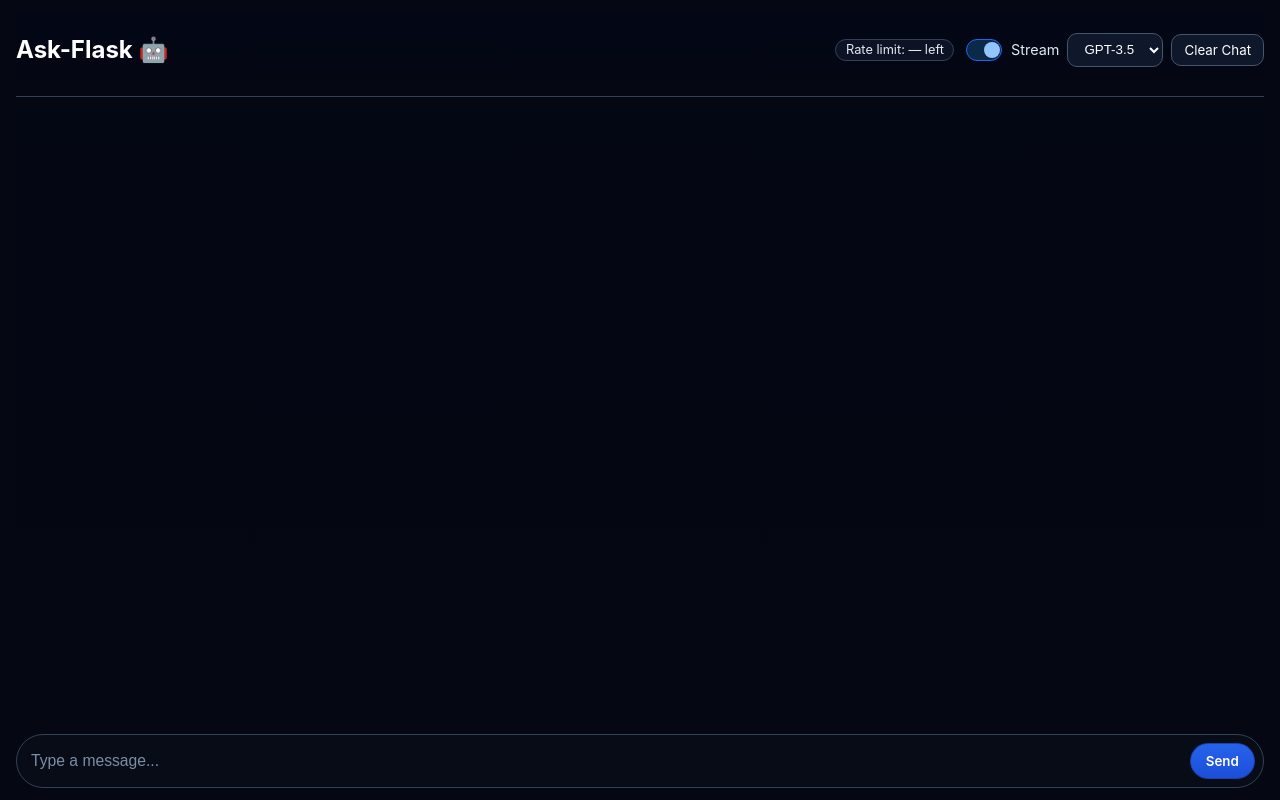
Scenario: renders and sends a message via non-stream path
Click the checkbox labelled "Stream" at (984, 50), box x1=966 y1=39 x2=1002 y2=61
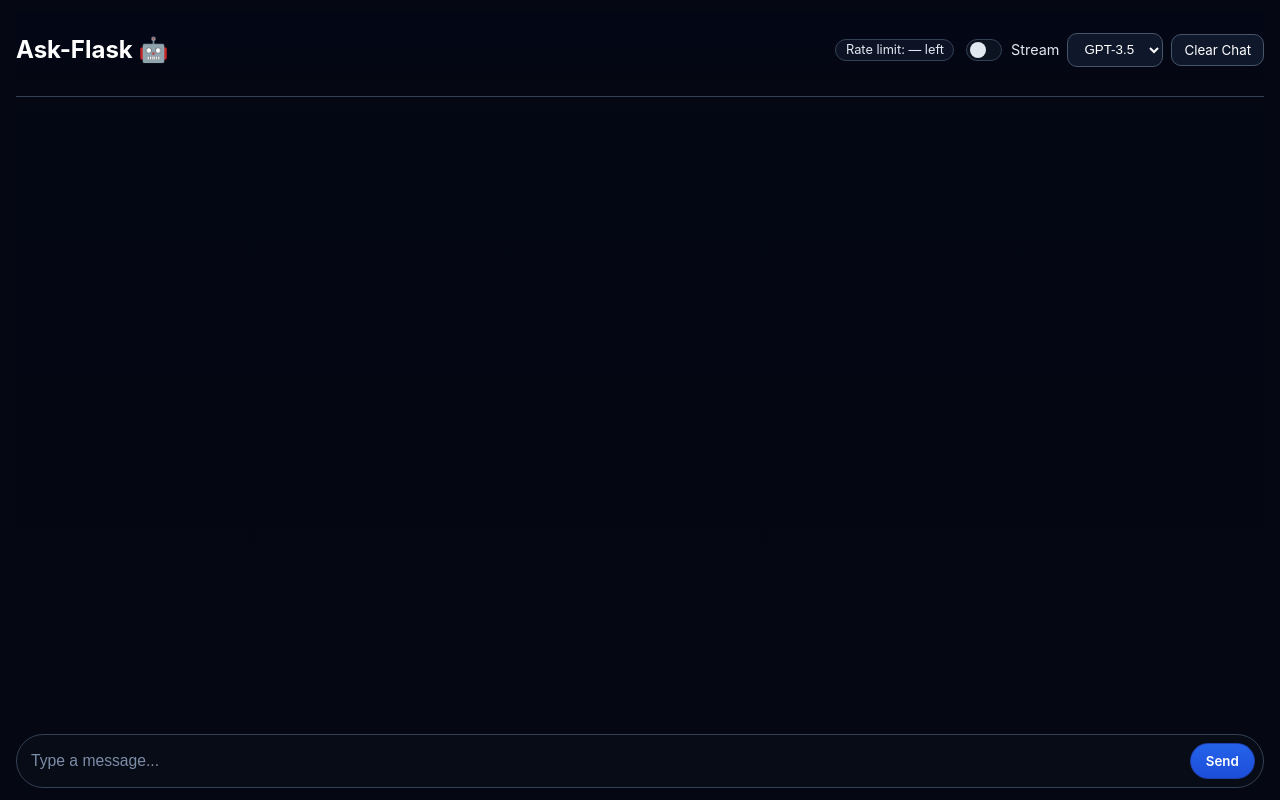
Type "hello" into the field with placeholder "Type a message..." at (605, 761), box x1=29 y1=751 x2=1182 y2=771
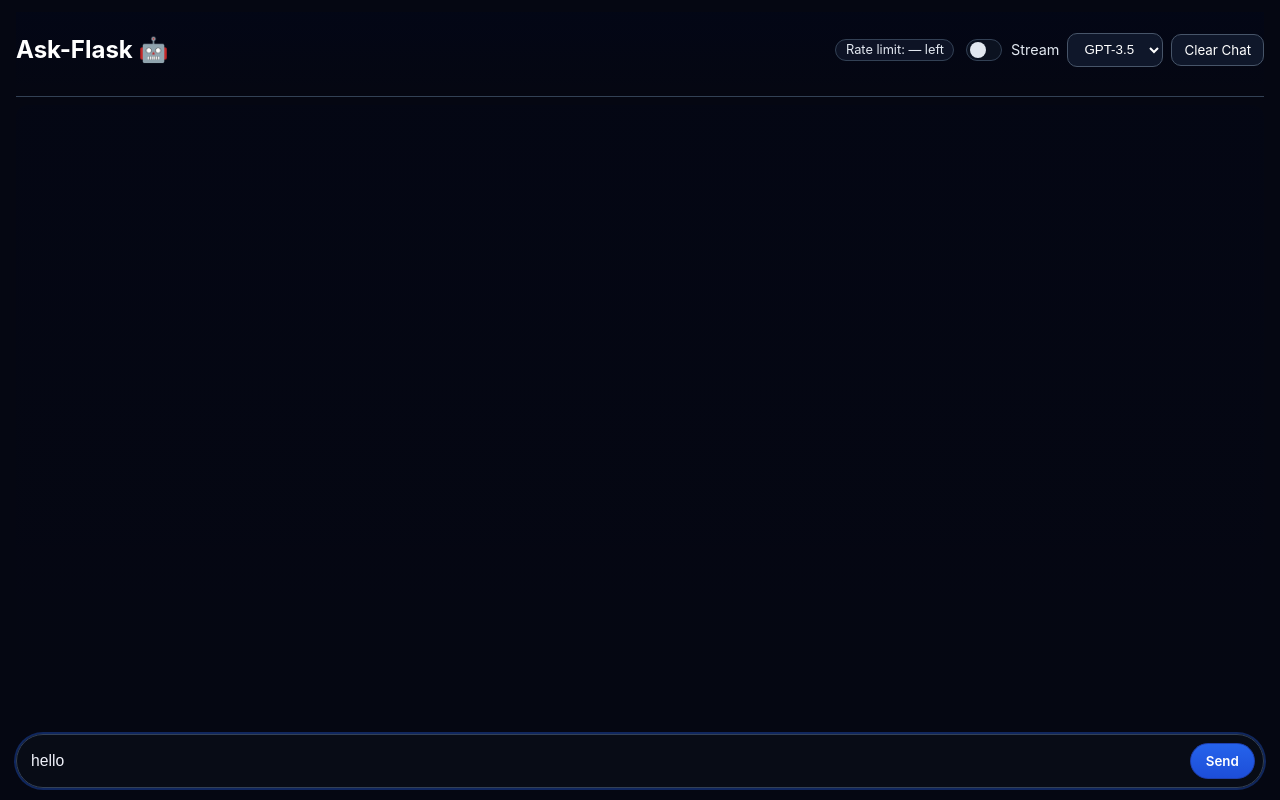
Click the button "Send" at (1222, 761), box x1=1190 y1=743 x2=1255 y2=779
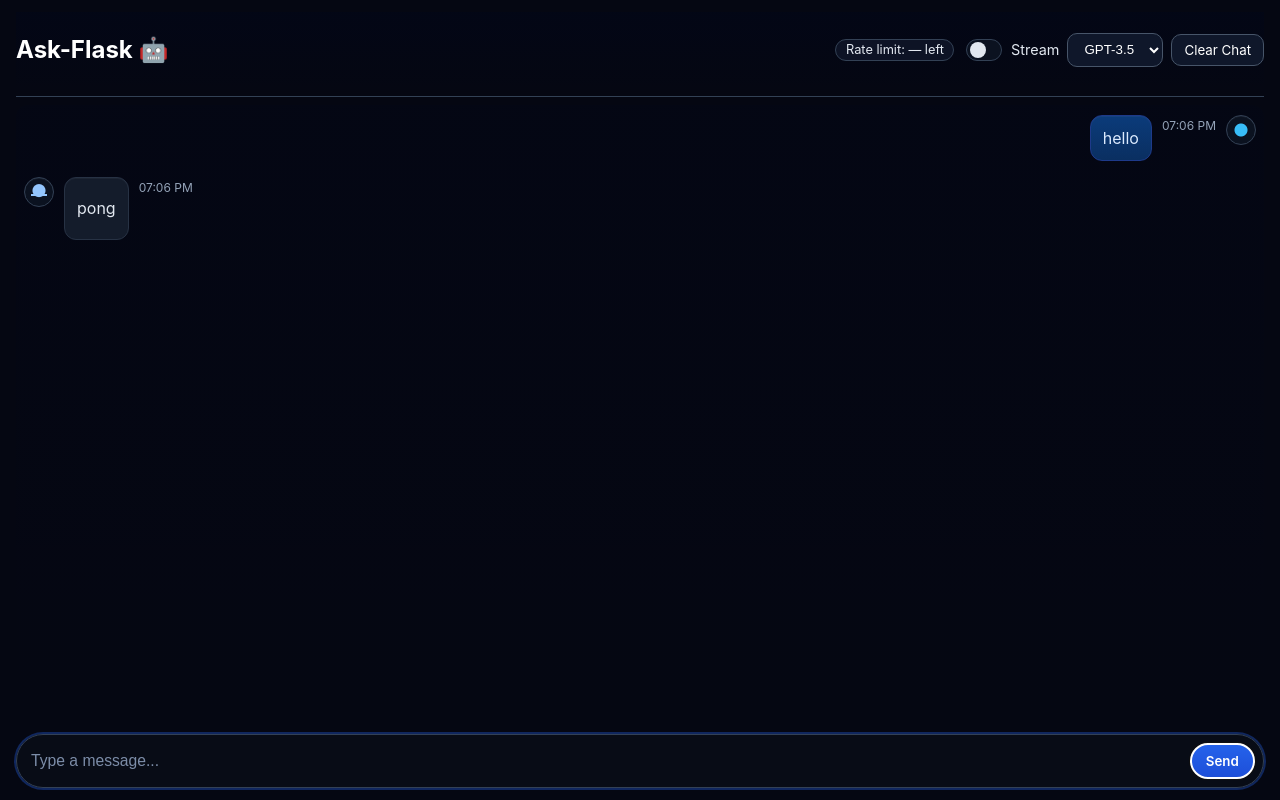
Now the text "pong" is shown, box x1=77 y1=195 x2=116 y2=221
